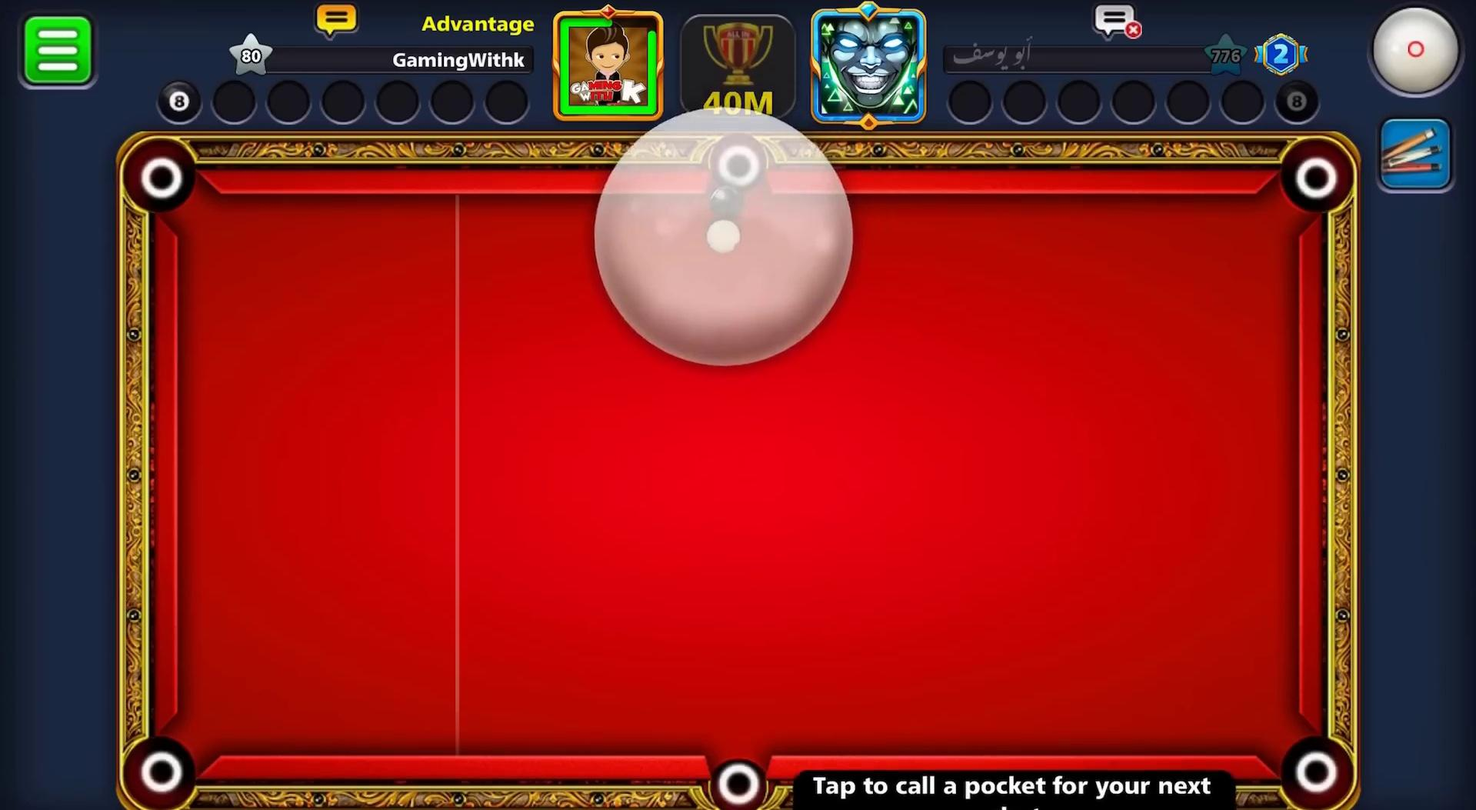Hole: (661, 723, 798, 810), (1263, 708, 1375, 810), (117, 126, 215, 226), (701, 126, 774, 203), (125, 735, 195, 809), (1281, 138, 1348, 215)
Play_Area: (181, 198, 1294, 754)
Spin: (589, 103, 865, 374), (1364, 1, 1473, 105)
White: (704, 215, 743, 257)
